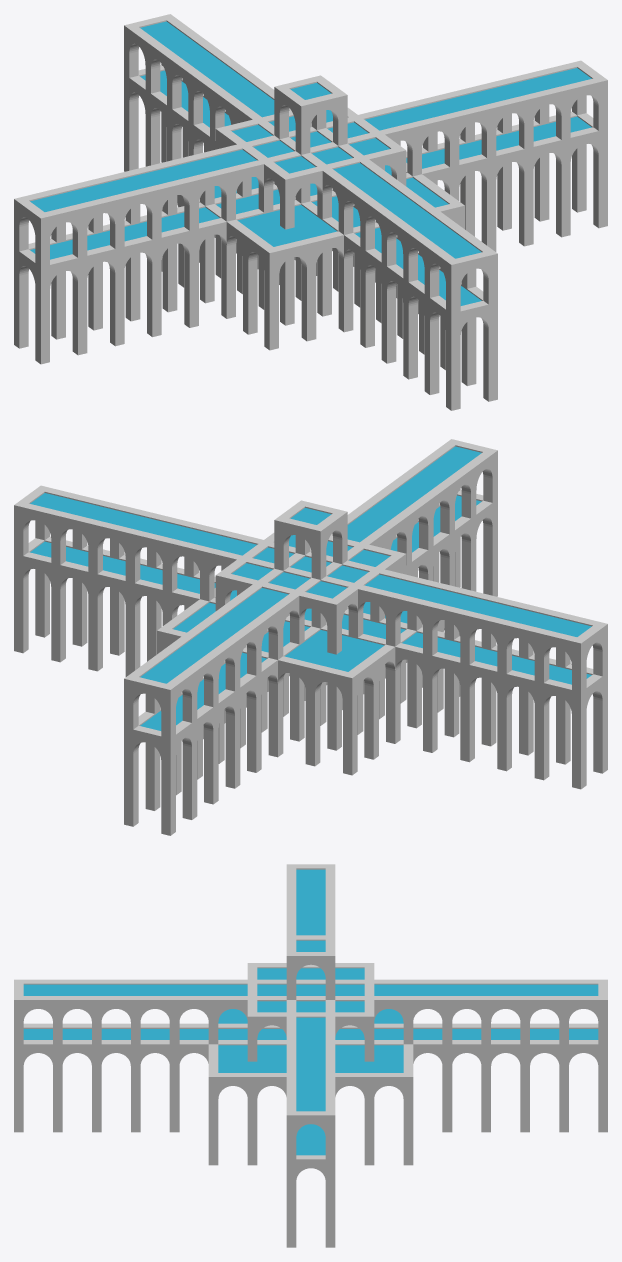
File: world4_cross.obj
3 views of the same model, one above another, from view 1: azimuth 30°, elevation 25°; view 2: azimuth 150°, elevation 25°; view 3: azimuth 270°, elevation 25° (orthographic). The views are drawn at different scales.
Visible parts, largest first — view 1: block, water; view 2: block, water; view 3: block, water.
Part boxes in pixels (box(x1,y1,x2,y2)): block: box(14, 14, 607, 410); water: box(30, 21, 591, 305); block: box(14, 439, 607, 835); water: box(30, 446, 591, 730); block: box(14, 864, 607, 1247); water: box(23, 869, 598, 1155).
Bounding box in the file's own units: 610 × 200 × 610.
